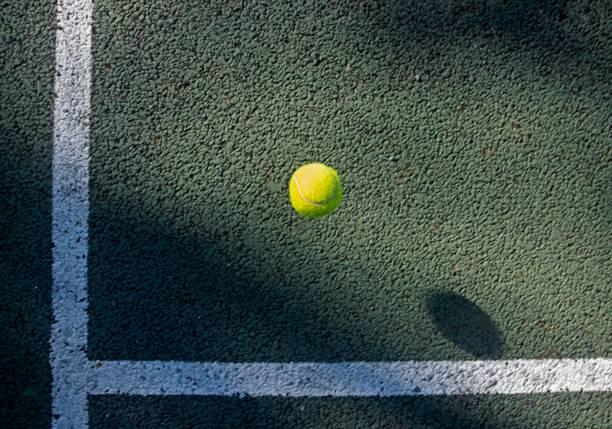ball_tennis: (288, 161, 344, 220)
